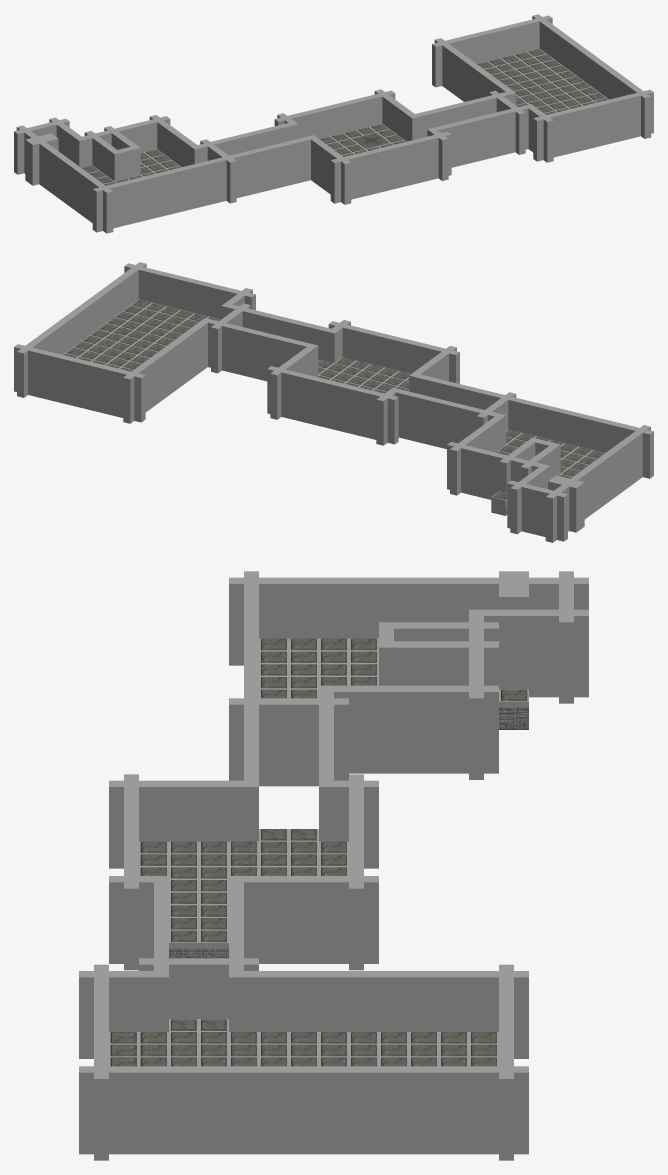
The model's file is first_escenary.fbx.
3 renders of one model, top to bottom at view 1: azimuth 30°, elevation 25°; view 2: azimuth 150°, elevation 25°; view 3: azimuth 270°, elevation 25°, orthographic. The views are drawn at different scales.
Visible parts, largest first — view 1: limit_walls_left_mesh, limit_walls_right_mesh, limit_walls_center_mesh, limit_walls18, limit_walls19, limit_walls20, limit_walls17, first_center_mesh1, first_center_mesh, first_left_mesh; view 2: limit_walls_right_mesh, limit_walls_left_mesh, limit_walls_center_mesh, limit_walls17, limit_walls20, limit_walls18, limit_walls19, first_center_mesh1, first_left_mesh, first_center_mesh; view 3: limit_walls_right_mesh, limit_walls_left_mesh, limit_walls_center_mesh, first_center_mesh, first_center_mesh1, first_left_mesh, limit_walls17, limit_walls18, limit_walls20, limit_walls19, lowShape_MASH_Escenary_1_left_Instancer_55.
Boxes of the visible parts, x1,y1,x2,y2 form: limit_walls_left_mesh: [14, 115, 236, 233]; limit_walls_right_mesh: [432, 14, 653, 162]; limit_walls_center_mesh: [274, 89, 451, 204]; limit_walls18: [210, 135, 317, 202]; limit_walls19: [427, 104, 530, 167]; limit_walls20: [408, 91, 516, 140]; limit_walls17: [191, 122, 298, 164]; first_center_mesh1: [477, 48, 608, 113]; first_center_mesh: [320, 123, 406, 155]; first_left_mesh: [82, 149, 181, 184]; limit_walls_right_mesh: [14, 262, 255, 423]; limit_walls_left_mesh: [447, 392, 653, 542]; limit_walls_center_mesh: [267, 320, 459, 445]; limit_walls17: [389, 388, 505, 449]; limit_walls20: [203, 318, 318, 381]; limit_walls18: [409, 374, 525, 432]; limit_walls19: [221, 304, 338, 362]; first_center_mesh1: [63, 299, 220, 369]; first_left_mesh: [491, 429, 604, 515]; first_center_mesh: [316, 357, 410, 391]; limit_walls_right_mesh: [79, 952, 528, 1160]; limit_walls_left_mesh: [229, 571, 588, 786]; limit_walls_center_mesh: [109, 774, 378, 970]; first_center_mesh: [139, 829, 348, 958]; first_center_mesh1: [109, 1019, 498, 1066]; first_left_mesh: [259, 638, 528, 729]; limit_walls17: [319, 686, 333, 841]; limit_walls18: [244, 688, 258, 841]; limit_walls20: [229, 882, 243, 1031]; limit_walls19: [154, 876, 168, 976]; lowShape_MASH_Escenary_1_left_Instancer_55: [499, 689, 528, 729].
Size of the model in its own units: 40 by 3.03 by 17.
